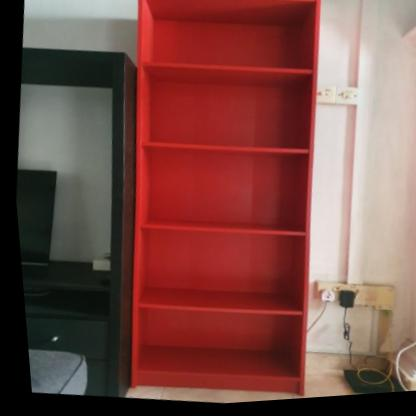Shelf: (86, 0, 353, 411)
